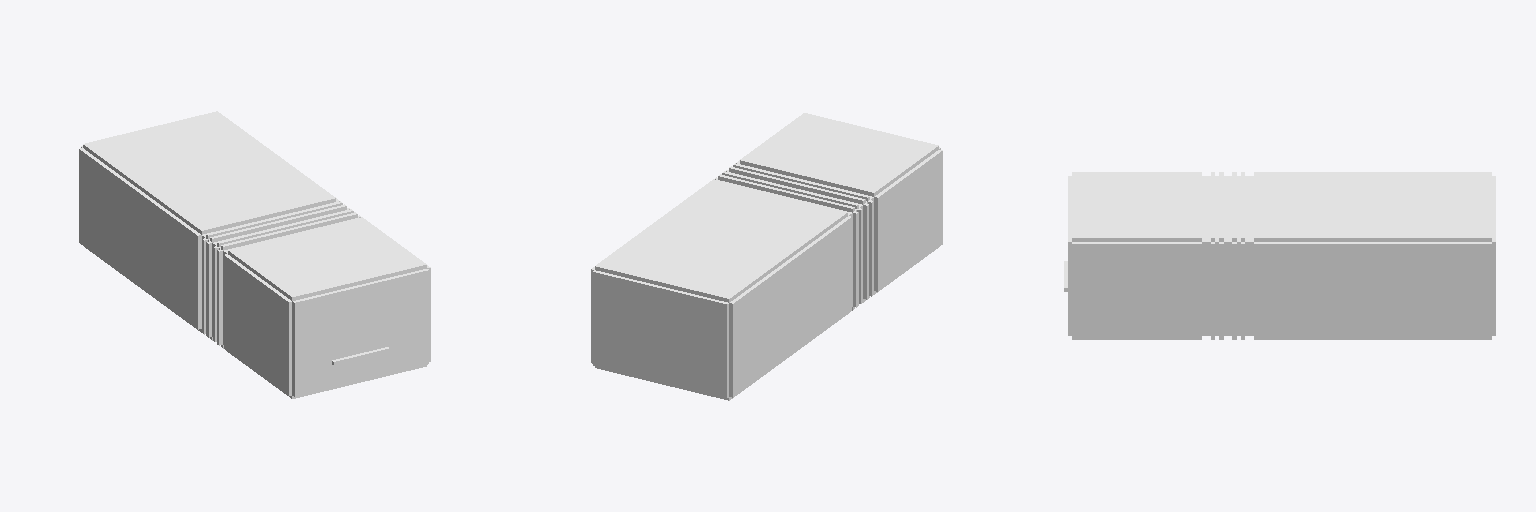
Rendered from wiggles.obj.
3 renders of one model, left to right at view 1: azimuth 30°, elevation 25°; view 2: azimuth 150°, elevation 25°; view 3: azimuth 270°, elevation 25°, orthographic.
Visible parts, largest first — view 1: wiggles; view 2: wiggles; view 3: wiggles.
Boxes of the visible parts, <box> form: wiggles: <box>79,111,430,398</box>; wiggles: <box>591,113,942,400</box>; wiggles: <box>1064,172,1495,339</box>.
Size of the model in its own units: 38 by 26 by 100.